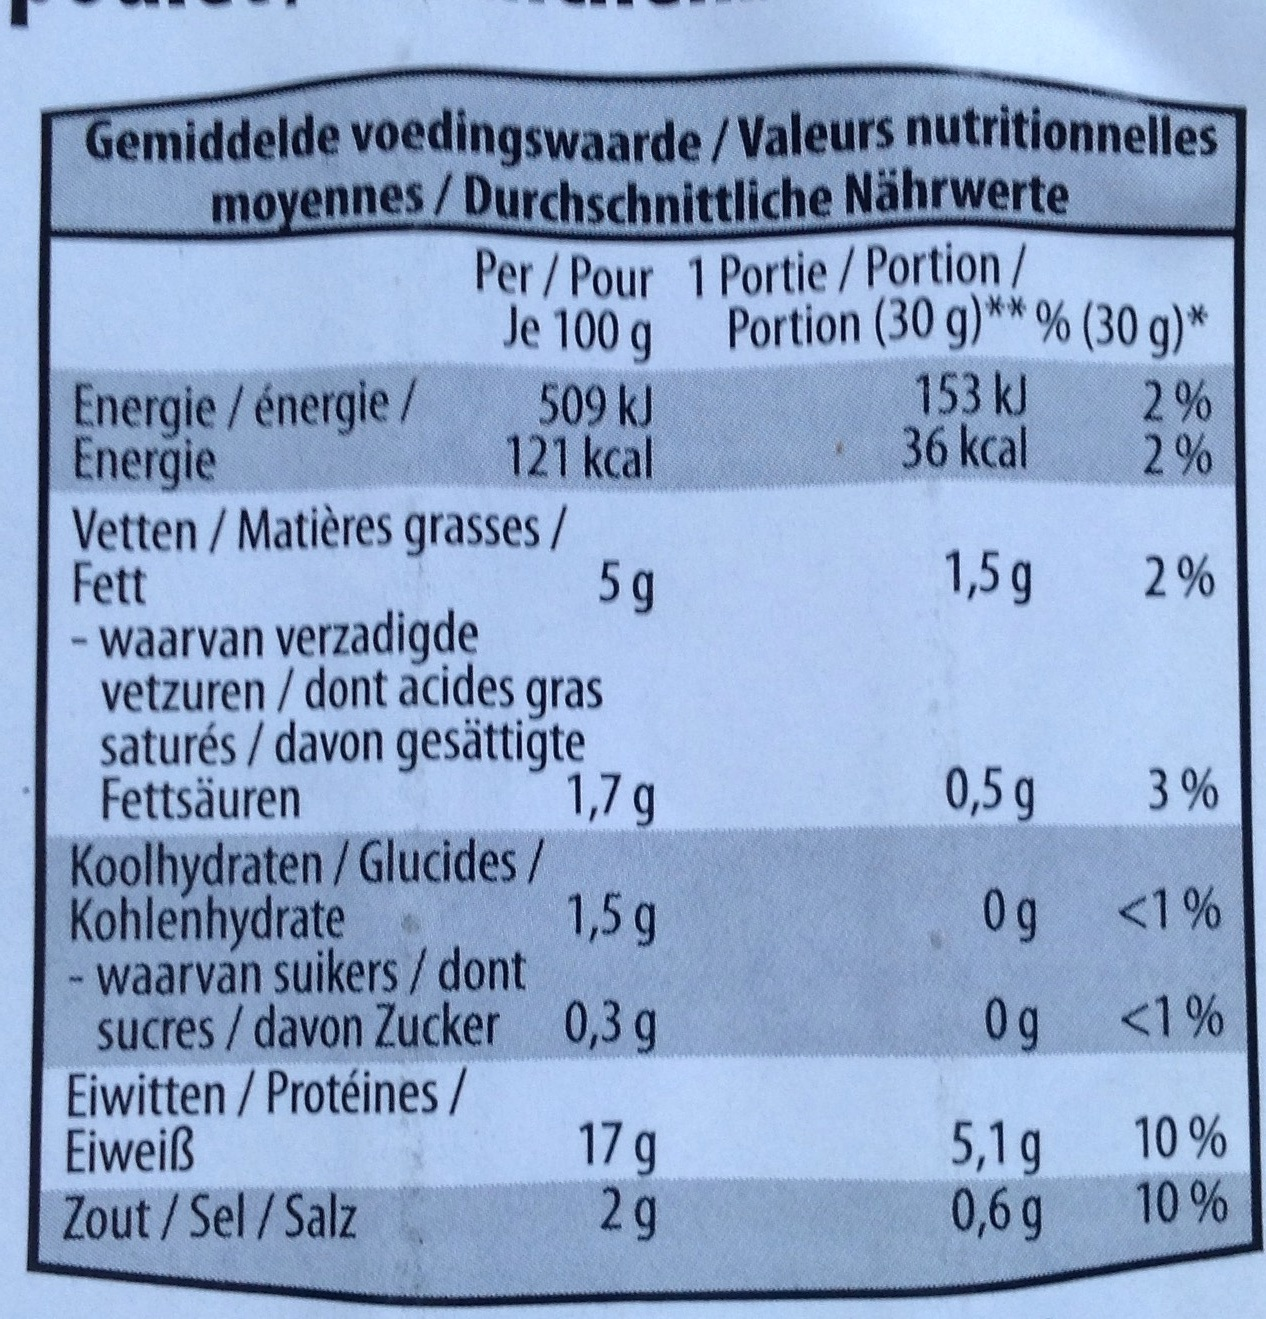column: (69, 228, 659, 1314), (684, 236, 1035, 1312), (1078, 228, 1224, 1308)
table: (31, 67, 1262, 1304)
